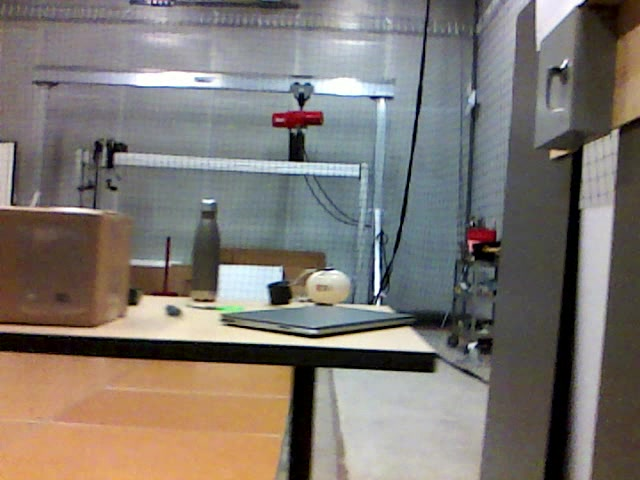box: (1, 206, 130, 331)
